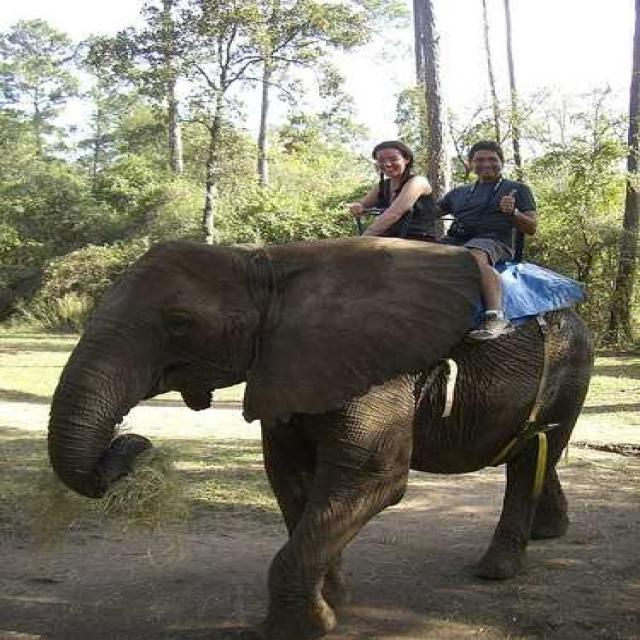Elephant: (44, 235, 596, 638)
person: (432, 140, 538, 342), (346, 139, 438, 242)
